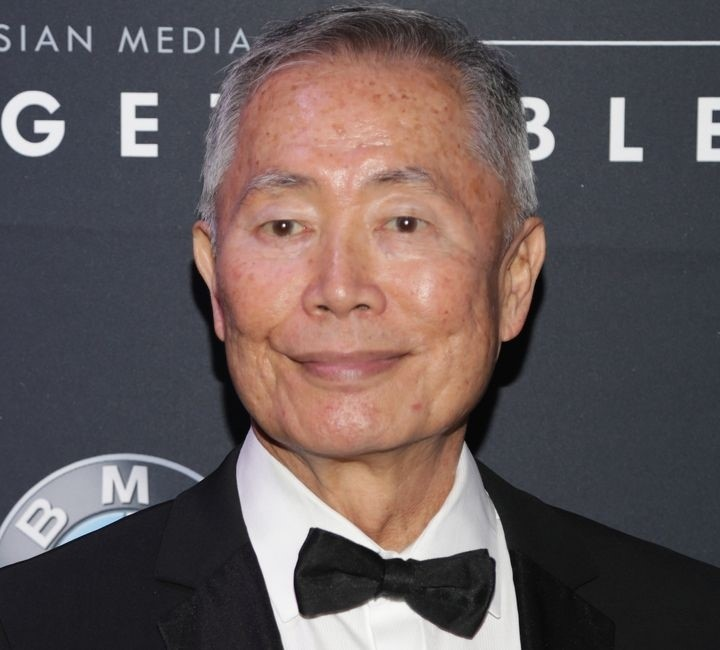face_no_mask: (186, 10, 548, 461)
